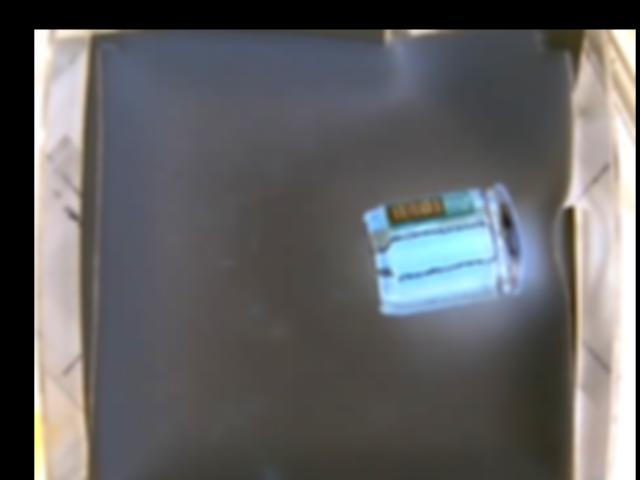Bottle: (366, 183, 528, 314)
